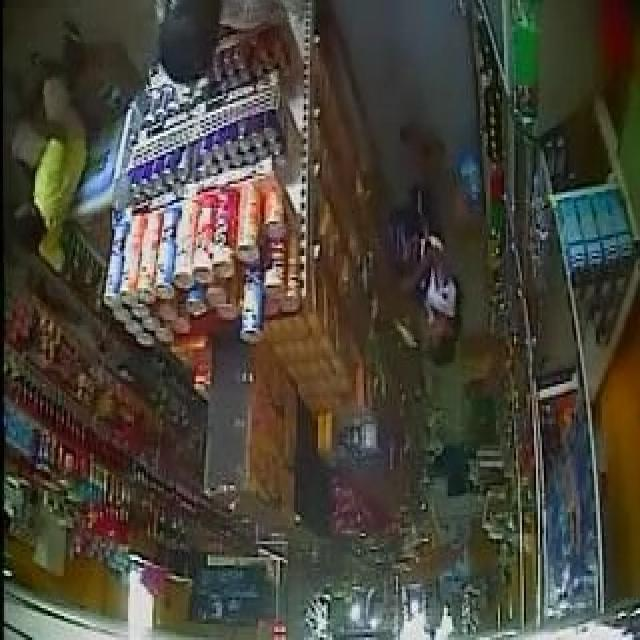normal: (3, 8, 100, 281), (367, 123, 469, 376), (127, 0, 295, 88)
